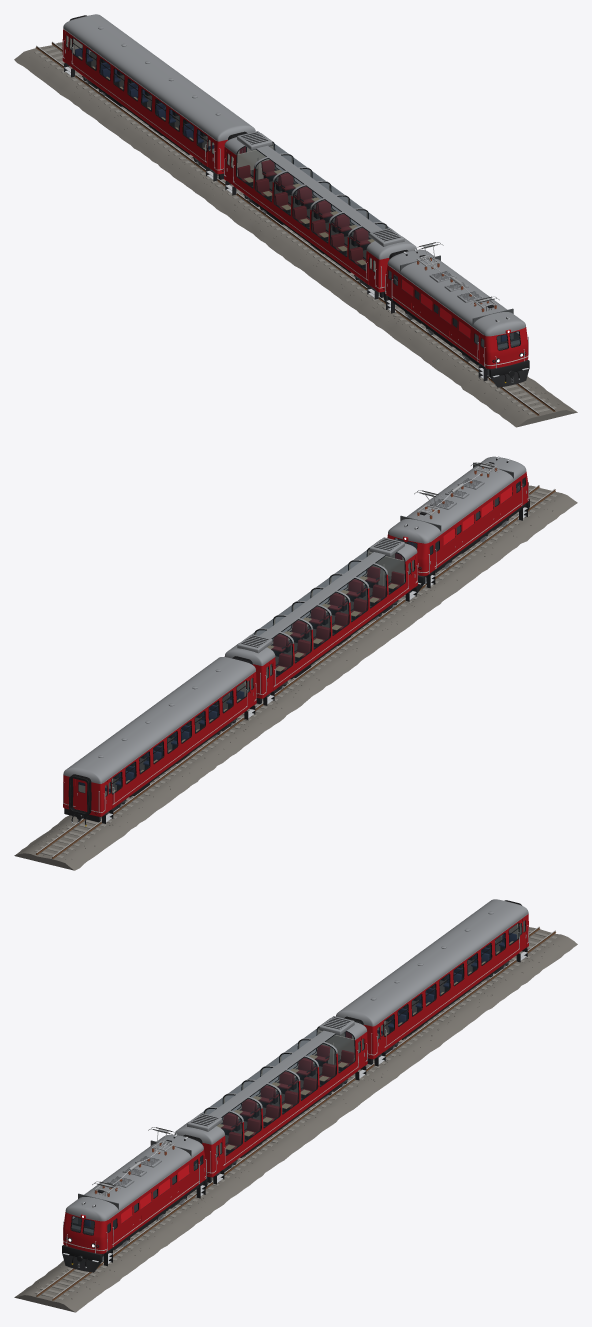
File: alpine-red-train.glb
The picture shows the model from 3 angles, top to bottom: view 1: azimuth 30°, elevation 25°; view 2: azimuth 150°, elevation 25°; view 3: azimuth 330°, elevation 25°; orthographic projection.
Visible parts, largest first — view 1: track_bed, standard_body_m14, loco_body, panorama_glass, panorama_body, panorama_interior_m12, loco_details, standard_glass, panorama_body_m4, standard_details_m15, standard_interior_m17, panorama_details (+2 smaller); view 2: track_bed, standard_body_m14, loco_body, panorama_glass, panorama_body, panorama_interior_m12, standard_details_m15, loco_details, standard_glass, panorama_body_m4, standard_interior_m17, panorama_details (+1 smaller); view 3: track_bed, standard_body_m14, loco_body, panorama_glass, panorama_body, panorama_interior_m12, loco_details, standard_glass, panorama_body_m4, standard_details_m15, standard_interior_m17, panorama_details (+2 smaller).
Part boxes in pixels (left/top/right/bottom): track_bed: left=14, top=41, right=577, bottom=427; standard_body_m14: left=62, top=14, right=255, bottom=174; loco_body: left=385, top=249, right=528, bottom=368; panorama_glass: left=228, top=142, right=389, bottom=271; panorama_body: left=224, top=133, right=416, bottom=292; panorama_interior_m12: left=237, top=160, right=374, bottom=264; loco_details: left=384, top=249, right=529, bottom=387; standard_glass: left=66, top=36, right=213, bottom=153; panorama_body_m4: left=226, top=141, right=387, bottom=289; standard_details_m15: left=64, top=15, right=247, bottom=181; standard_interior_m17: left=75, top=48, right=214, bottom=150; panorama_details: left=225, top=131, right=404, bottom=299; track_bed: left=14, top=485, right=577, bottom=870; standard_body_m14: left=63, top=657, right=256, bottom=816; loco_body: left=387, top=456, right=528, bottom=575; panorama_glass: left=252, top=548, right=413, bottom=677; panorama_body: left=224, top=539, right=417, bottom=698; panorama_interior_m12: left=267, top=566, right=404, bottom=671; standard_details_m15: left=64, top=657, right=255, bottom=824; loco_details: left=394, top=456, right=529, bottom=593; standard_glass: left=78, top=678, right=252, bottom=796; panorama_body_m4: left=254, top=548, right=415, bottom=695; standard_interior_m17: left=78, top=690, right=244, bottom=792; panorama_details: left=237, top=537, right=416, bottom=705; track_bed: left=14, top=926, right=577, bottom=1312; standard_body_m14: left=336, top=899, right=528, bottom=1059; loco_body: left=63, top=1134, right=205, bottom=1253; panorama_glass: left=202, top=1027, right=363, bottom=1156; panorama_body: left=174, top=1018, right=367, bottom=1177; panorama_interior_m12: left=217, top=1045, right=354, bottom=1149; loco_details: left=62, top=1134, right=207, bottom=1272; standard_glass: left=377, top=921, right=524, bottom=1038; panorama_body_m4: left=204, top=1026, right=365, bottom=1174; standard_details_m15: left=344, top=900, right=527, bottom=1066; standard_interior_m17: left=377, top=932, right=516, bottom=1035; panorama_details: left=187, top=1016, right=366, bottom=1184.
Size of the model in its own units: 4.24 by 5.64 by 58.14.
